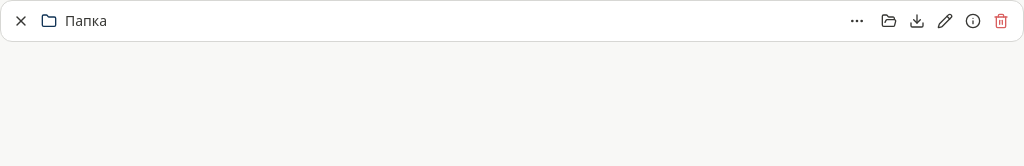
Test: FileActionBar › shows folder color option in overflow only for folders
The width and height of the screenshot is (1024, 166).
Click the 2nd button. click: {"x": 857, "y": 21}
box: [843,7,871,35]
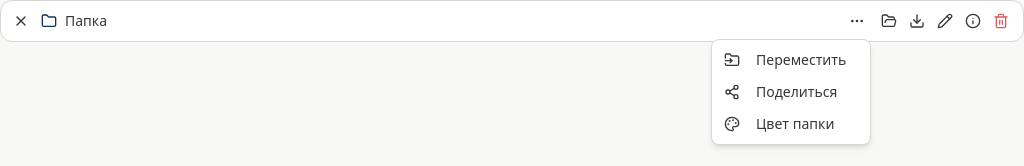
Expected: the menu item "Цвет папки" is shown, [724,115,834,133]
Expected: the menu item "Переместить" is shown, [724,51,846,69]
